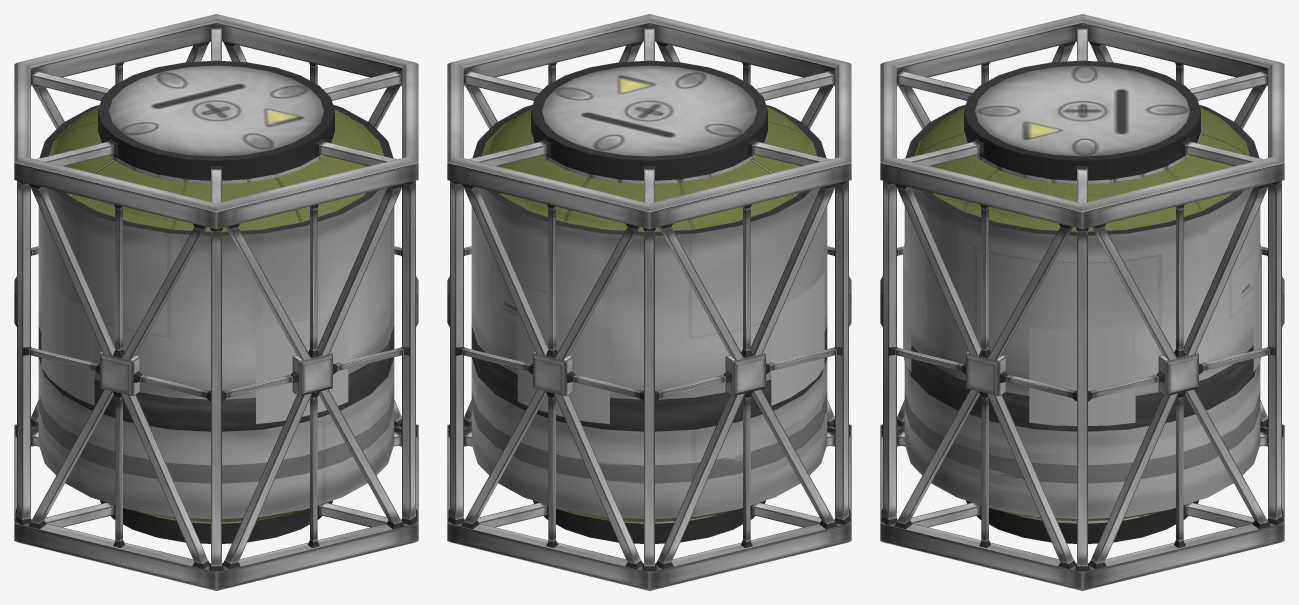
File: HexTrussHalf.FBX
3 renders of one model, left to right at view 1: azimuth 30°, elevation 25°; view 2: azimuth 150°, elevation 25°; view 3: azimuth 270°, elevation 25°, orthographic.
Visible parts, largest first — view 1: TankBody, EndBeam011, EndCap021, EndCap001, EndBeam012, Pilar277, Pilar278, decalPanel001, Pilar015, Pilar270, decalPanel004, Pilar269 (+27 smaller); view 2: TankBody, EndBeam011, EndCap021, EndCap001, EndBeam012, Pilar174, Pilar274, decalPanel003, Pilar272, Pilar015, decalPanel004, Pilar273 (+27 smaller); view 3: TankBody, EndBeam011, EndCap021, EndCap001, EndBeam012, decalPanel002, Pilar281, Pilar282, Pilar270, Pilar272, Pilar271, Pilar280 (+28 smaller).
Boxes of the visible parts, box(x1,y1,x2,y2) form: TankBody: box(38, 188, 394, 518); EndBeam011: box(14, 14, 418, 229); EndCap021: box(98, 60, 334, 177); EndCap001: box(39, 105, 393, 235); EndBeam012: box(14, 424, 418, 590); Pilar277: box(29, 183, 209, 569); Pilar278: box(223, 183, 403, 569); decalPanel001: box(256, 311, 348, 424); Pilar015: box(15, 180, 31, 524); Pilar270: box(401, 180, 417, 524); decalPanel004: box(41, 271, 94, 405); Pilar269: box(209, 228, 223, 571); TankBody: box(471, 188, 827, 518); EndBeam011: box(447, 14, 851, 229); EndCap021: box(531, 60, 767, 177); EndCap001: box(472, 105, 826, 235); EndBeam012: box(447, 424, 851, 590); Pilar174: box(462, 183, 642, 569); Pilar274: box(656, 183, 836, 569); decalPanel003: box(517, 311, 609, 424); Pilar272: box(448, 180, 464, 524); Pilar015: box(834, 180, 850, 524); decalPanel004: box(771, 271, 824, 405); Pilar273: box(642, 228, 656, 571); TankBody: box(904, 188, 1260, 518); EndBeam011: box(880, 14, 1284, 229); EndCap021: box(964, 60, 1200, 176); EndCap001: box(905, 105, 1259, 235); EndBeam012: box(880, 424, 1284, 590); decalPanel002: box(1029, 327, 1135, 425); Pilar281: box(895, 183, 1075, 569); Pilar282: box(1089, 183, 1269, 569); Pilar270: box(881, 180, 897, 524); Pilar272: box(1267, 180, 1283, 524); Pilar271: box(1075, 228, 1089, 571); Pilar280: box(894, 223, 1072, 529).
Size of what is drawn, in the model's own units: 2.46 by 2.23 by 2.13.
